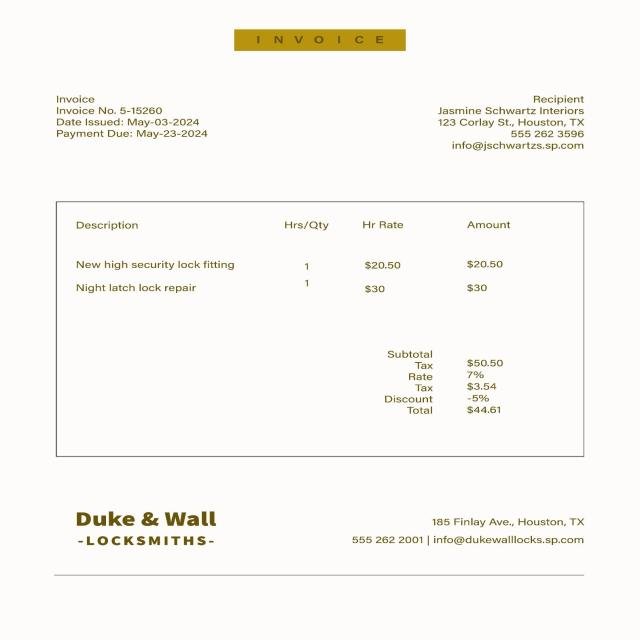paragraph: (340, 491, 602, 555), (412, 83, 605, 161), (377, 339, 528, 426), (52, 495, 245, 559), (51, 90, 220, 152), (228, 24, 410, 61)
table: (59, 206, 577, 322)
